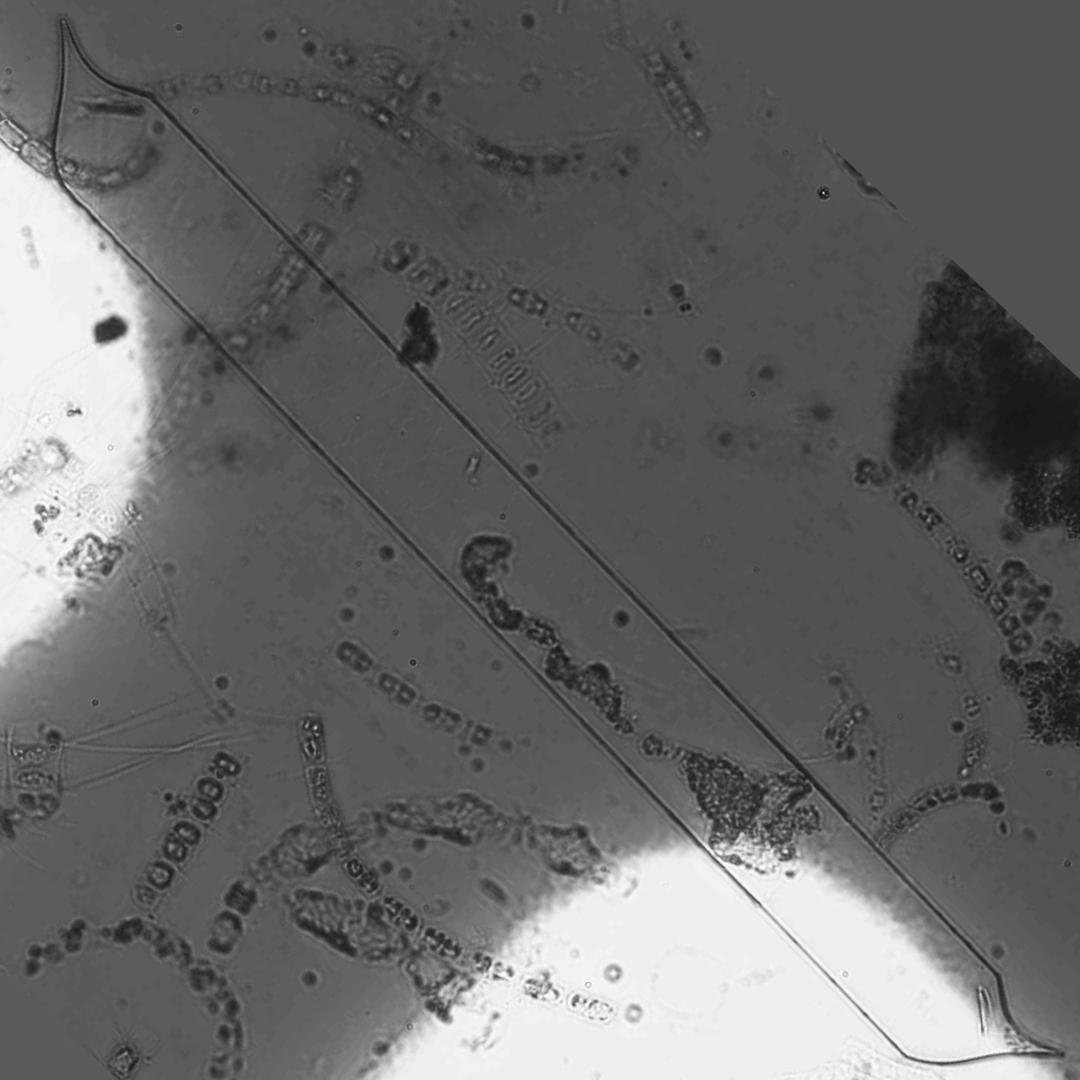proboscia_alata: (53, 18, 1064, 1065)
